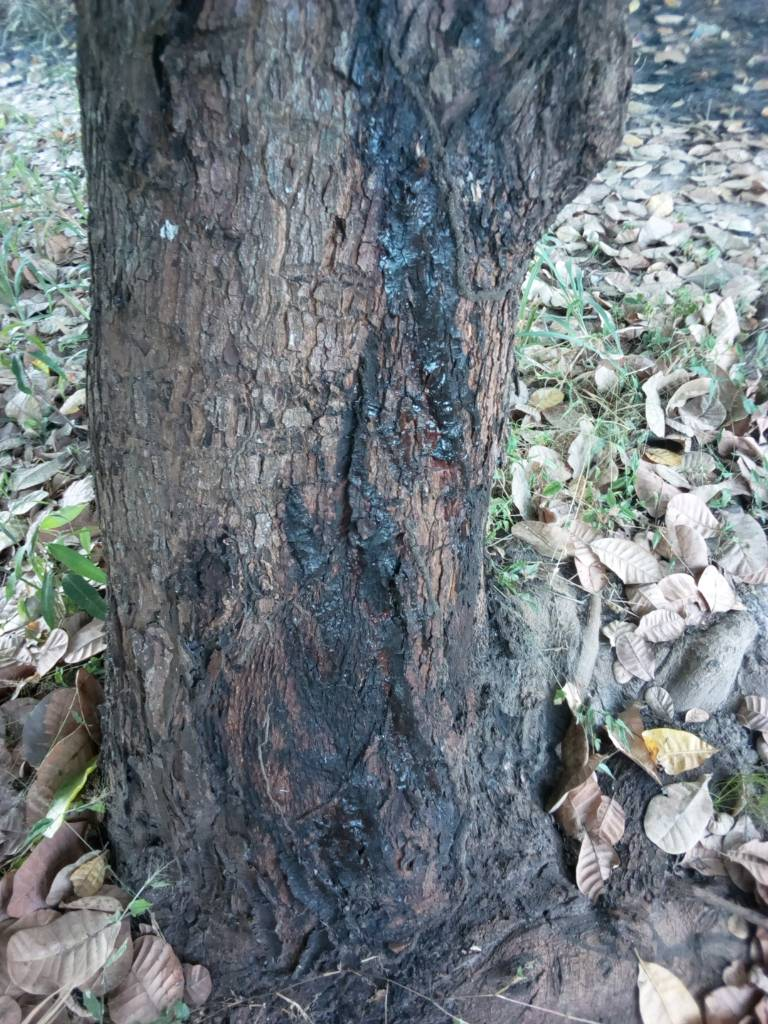Gommose: (352, 8, 544, 460), (286, 433, 440, 925)
